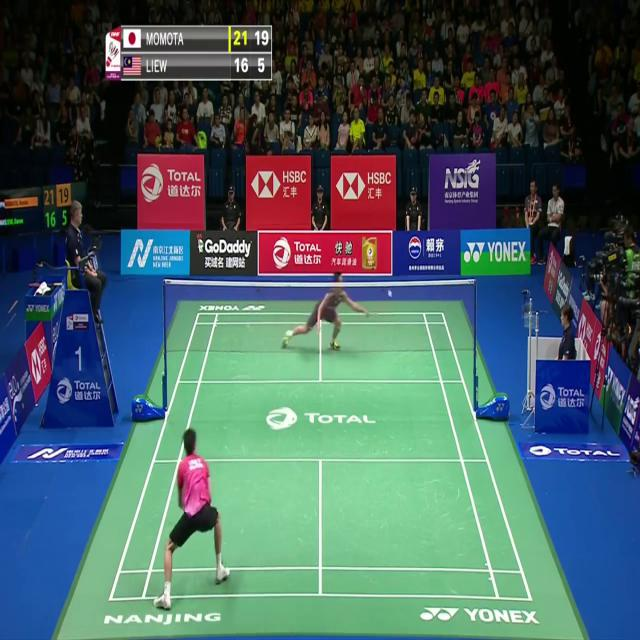Shuttlecock: (386, 287, 393, 298)
